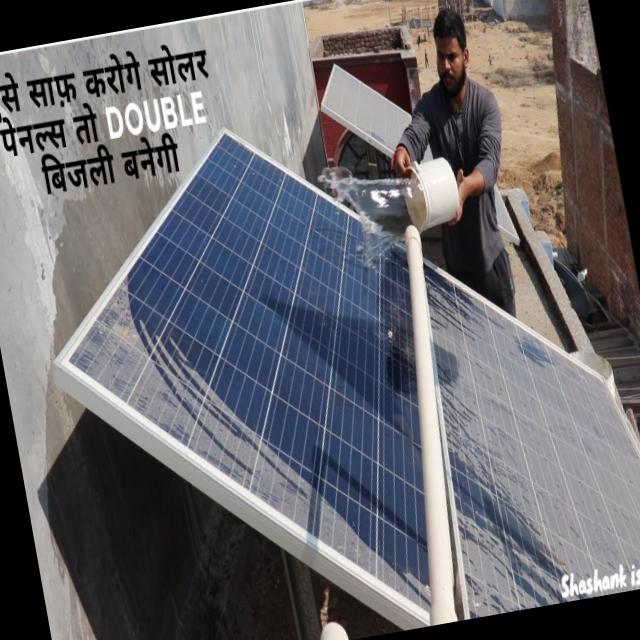faulty: (62, 127, 425, 602), (427, 266, 640, 618)
